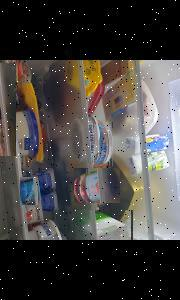Leche: (73, 210, 132, 240)
Mermelada: (72, 168, 118, 203)
Queso: (93, 122, 112, 166)
Tortillas de trigo: (0, 63, 16, 156)
Yogur: (20, 177, 38, 205), (40, 169, 56, 191)
